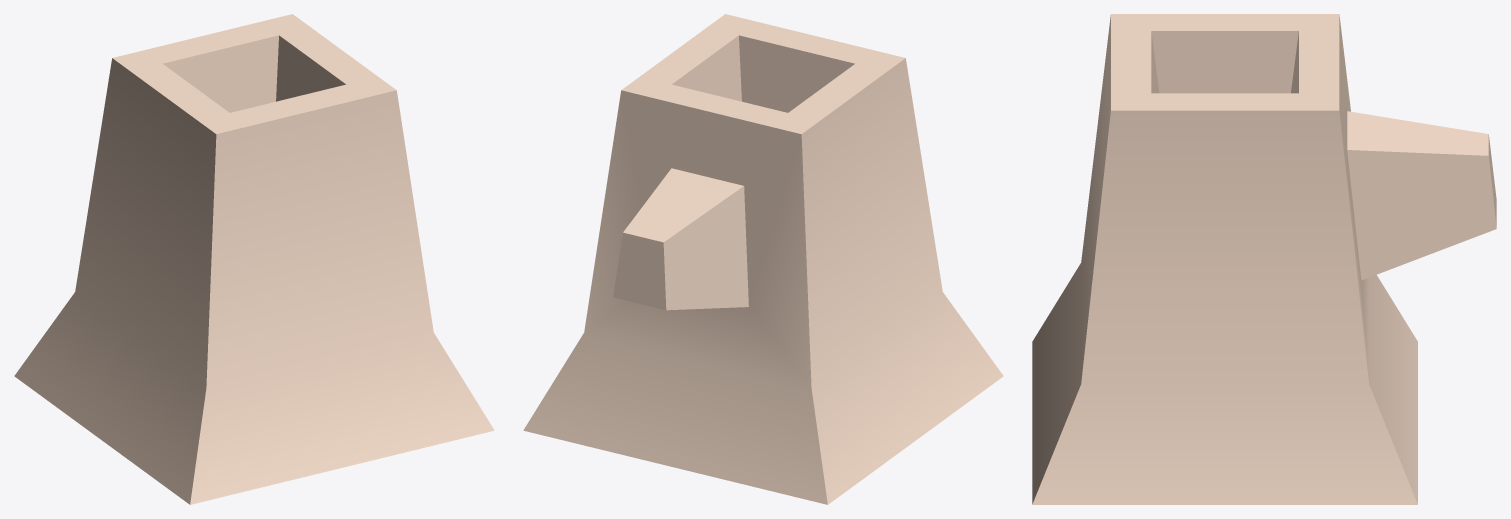
File: treeStump_deep_side.fbx
The picture shows the model from 3 angles, left to right: view 1: azimuth 30°, elevation 25°; view 2: azimuth 150°, elevation 25°; view 3: azimuth 270°, elevation 25°; orthographic projection. The views are drawn at different scales.
Parts seen in each view (by area): view 1: treeStump_deep_side; view 2: treeStump_deep_side; view 3: treeStump_deep_side.
Boxes of the visible parts, box(x1,y1,x2,y2) form: treeStump_deep_side: box(14, 14, 494, 504); treeStump_deep_side: box(523, 14, 1003, 504); treeStump_deep_side: box(1032, 14, 1496, 504).
Size of the model in its own units: 84.39 by 87.15 by 102.
